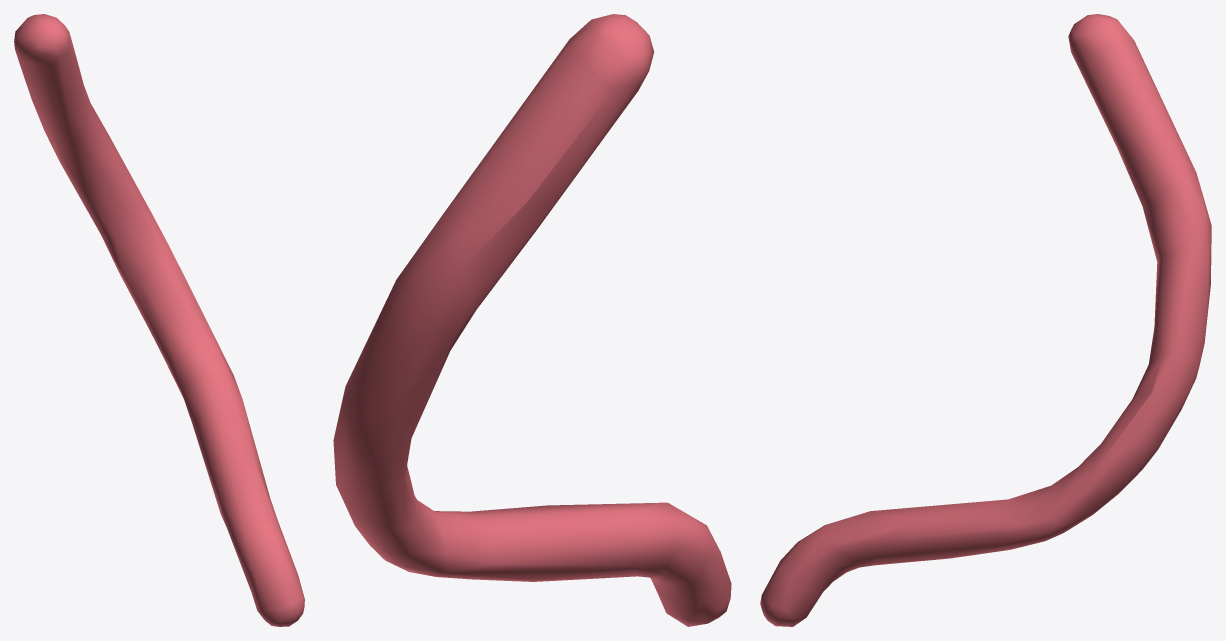
File: fma69391_fj3466.glb
3 renders of one model, left to right at view 1: azimuth 30°, elevation 25°; view 2: azimuth 150°, elevation 25°; view 3: azimuth 270°, elevation 25°, orthographic. The views are drawn at different scales.
Parts seen in each view (by area): view 1: FMA69391_FJ3466; view 2: FMA69391_FJ3466; view 3: FMA69391_FJ3466.
Boxes of the visible parts, bbox=[...] form: FMA69391_FJ3466: bbox=[14, 14, 304, 626]; FMA69391_FJ3466: bbox=[333, 14, 731, 626]; FMA69391_FJ3466: bbox=[760, 14, 1211, 626].
Size of the model in its own units: 0.0399 by 0.1025 by 0.0748.
